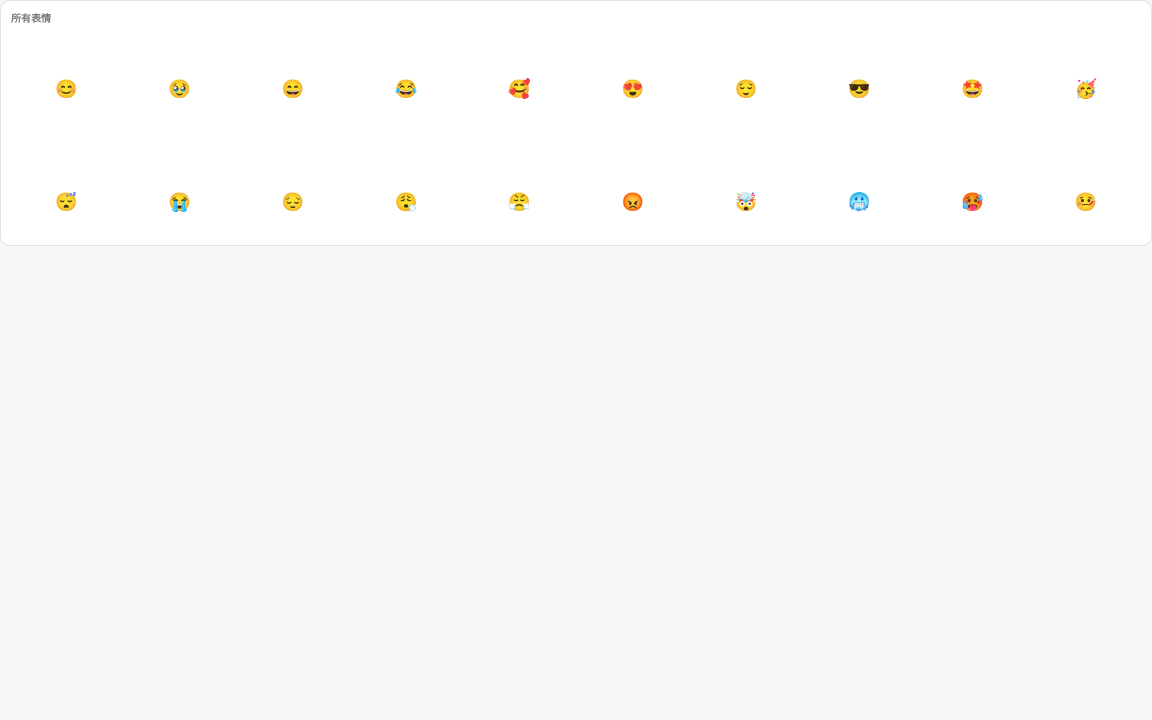
Test: EmojiPicker › does not duplicate recently used emoji in the full grid
Step 1. Click the button named "选择表情 😊" → (66,88), box [11,33,121,143]
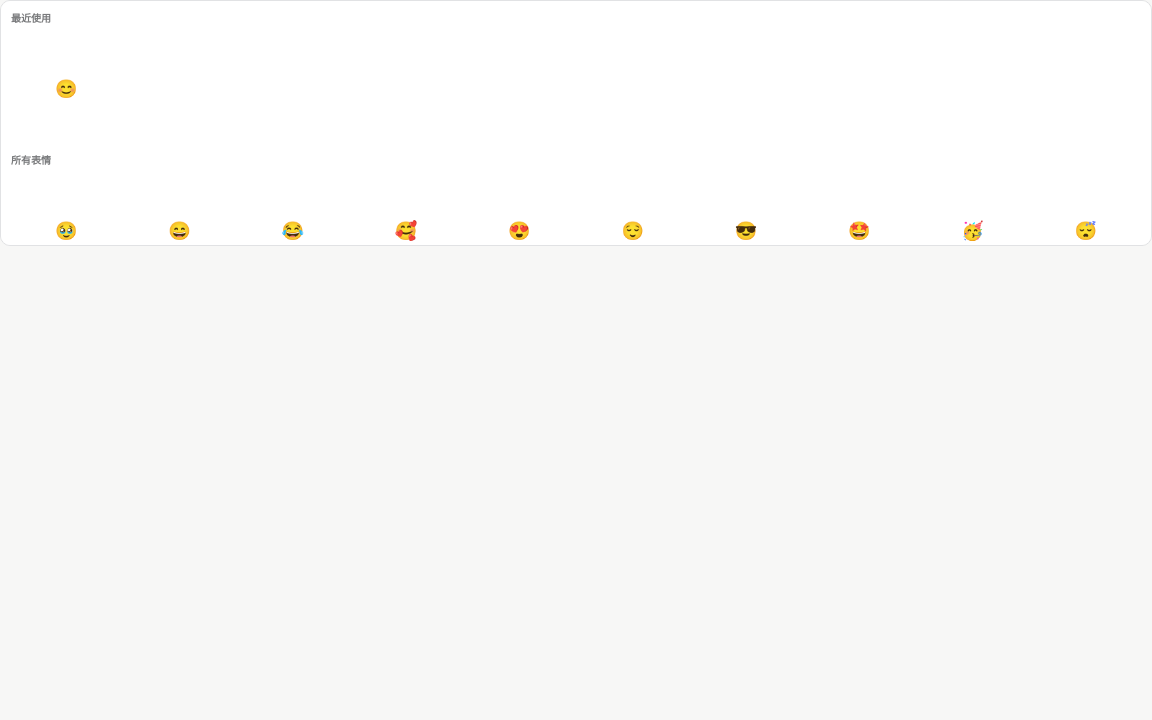
Expected: the number of buttons named "选择表情 😊" is 1, [11,33,121,143]
Expected: the text "最近使用" is shown, [11,12,51,24]
